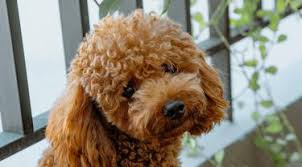Poodle: (34, 4, 223, 167)
